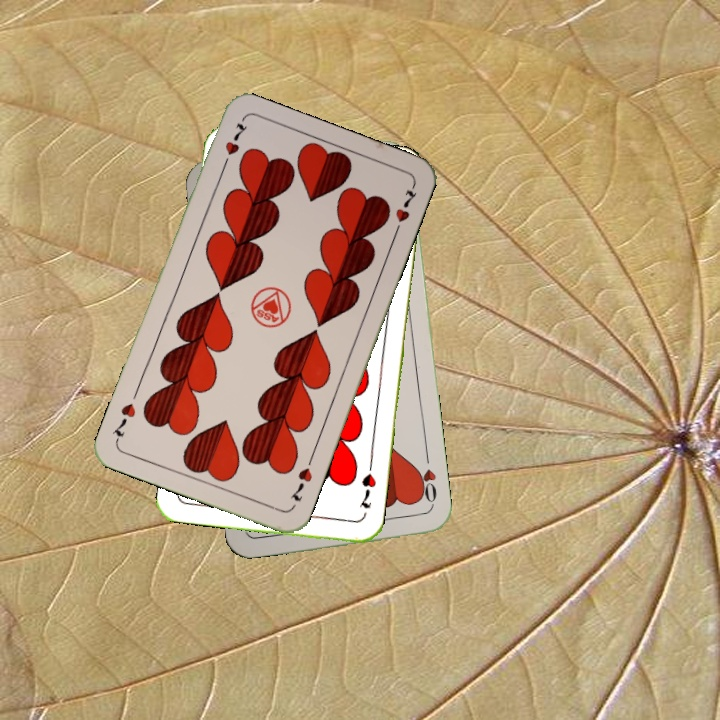H7: (217, 116, 249, 173), (287, 452, 316, 504), (355, 460, 379, 511)
HO: (411, 452, 439, 511)
